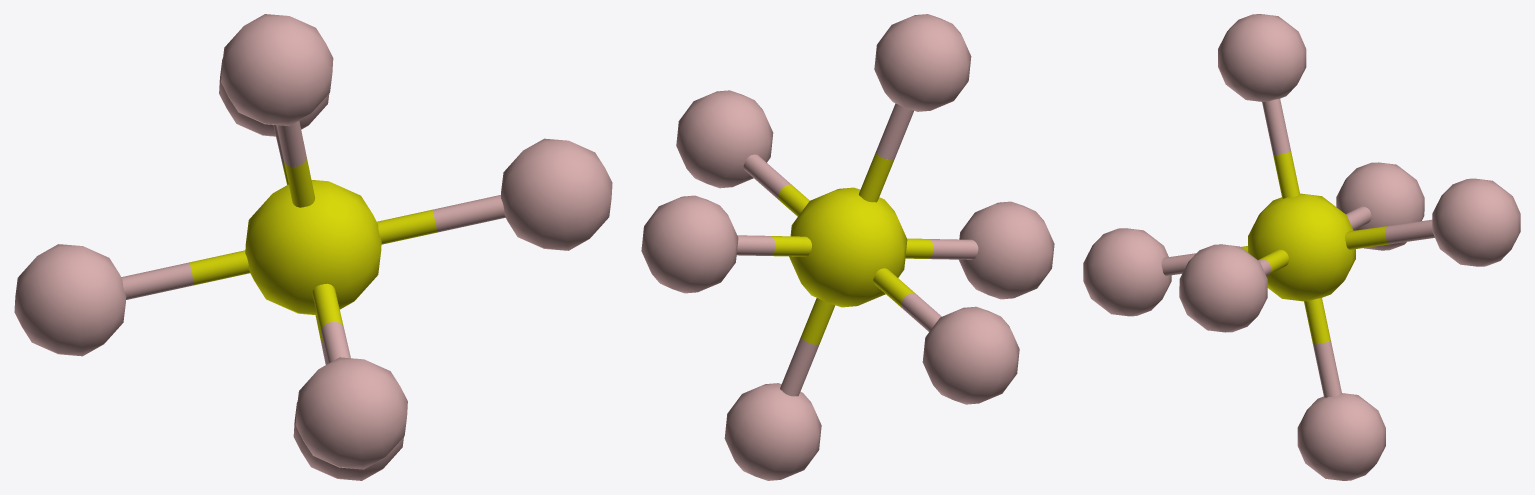
3 views of the same model, side by side, from view 1: azimuth 30°, elevation 25°; view 2: azimuth 150°, elevation 25°; view 3: azimuth 270°, elevation 25° (orthographic). The views are drawn at different scales.
Visible parts, largest first — view 1: vmd_mol4_rep0; view 2: vmd_mol4_rep0; view 3: vmd_mol4_rep0.
Boxes of the visible parts, left/top/right/bottom form: vmd_mol4_rep0: left=14, top=14, right=612, bottom=480; vmd_mol4_rep0: left=641, top=14, right=1054, bottom=480; vmd_mol4_rep0: left=1083, top=14, right=1520, bottom=480.
Size of the model in its own units: 1.74 by 1.79 by 1.73.
